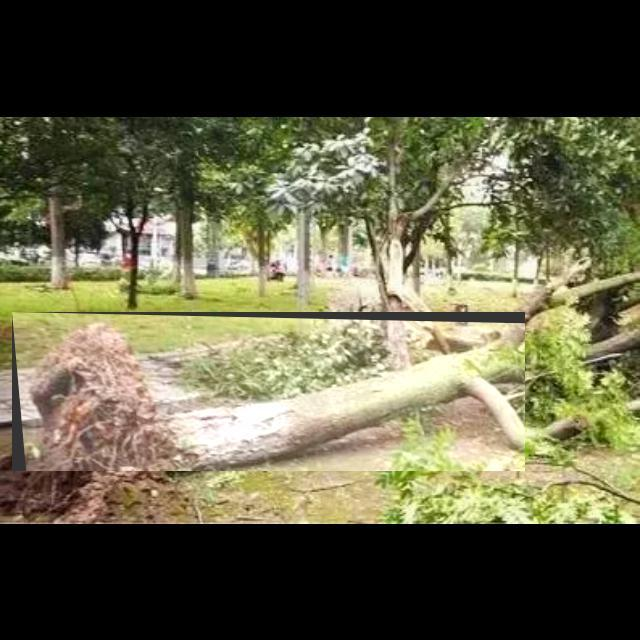fallen_tree: (12, 312, 526, 472)
